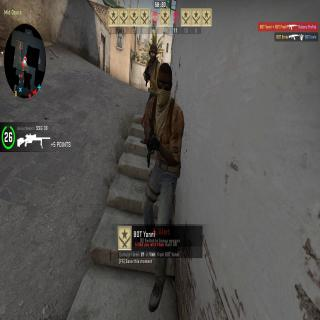T-Body: (136, 64, 186, 311), (145, 38, 157, 95)
T-Head: (156, 62, 173, 109), (149, 42, 157, 61)
